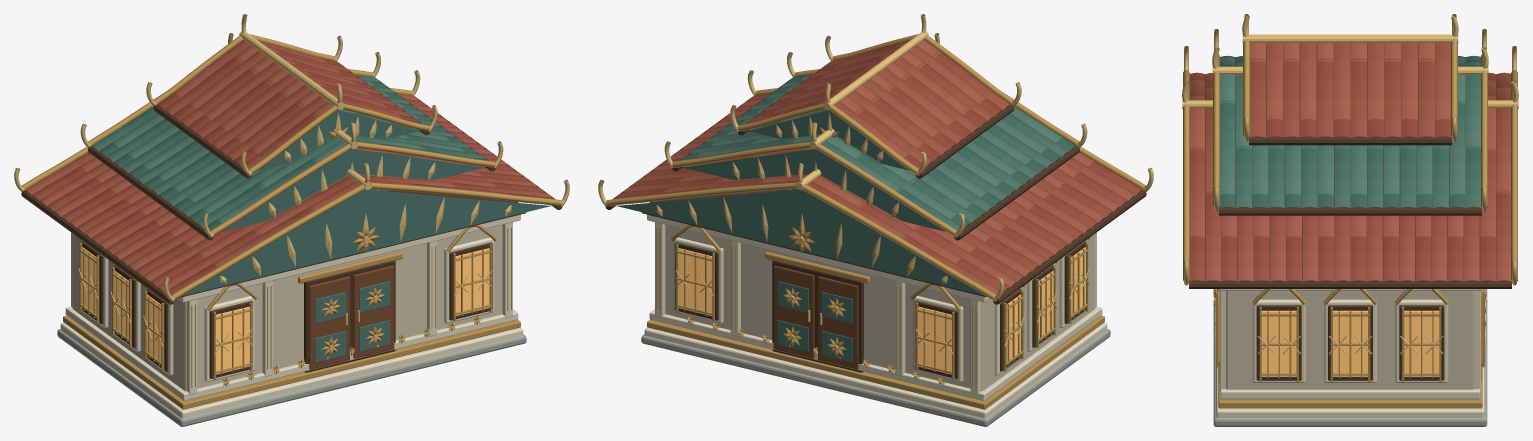
The model's file is oldtown-hall.glb.
3 renders of one model, left to right at view 1: azimuth 30°, elevation 25°; view 2: azimuth 150°, elevation 25°; view 3: azimuth 270°, elevation 25°, orthographic. The views are drawn at different scales.
Visible parts, largest first — view 1: HallRoofMesh, HallWallsMesh, HallBaseMesh; view 2: HallRoofMesh, HallWallsMesh, HallBaseMesh; view 3: HallRoofMesh, HallWallsMesh, HallBaseMesh.
Boxes of the visible parts, x1,y1,x2,y2 form: HallRoofMesh: (14,14,569,304); HallWallsMesh: (63,190,526,409); HallBaseMesh: (57,322,526,426); HallRoofMesh: (598,14,1153,304); HallWallsMesh: (641,190,1104,409); HallBaseMesh: (641,322,1110,426); HallRoofMesh: (1182,14,1518,288); HallWallsMesh: (1213,289,1487,408); HallBaseMesh: (1213,289,1487,426).
Bounding box in the file's own units: 9.36 × 6.43 × 6.15.
